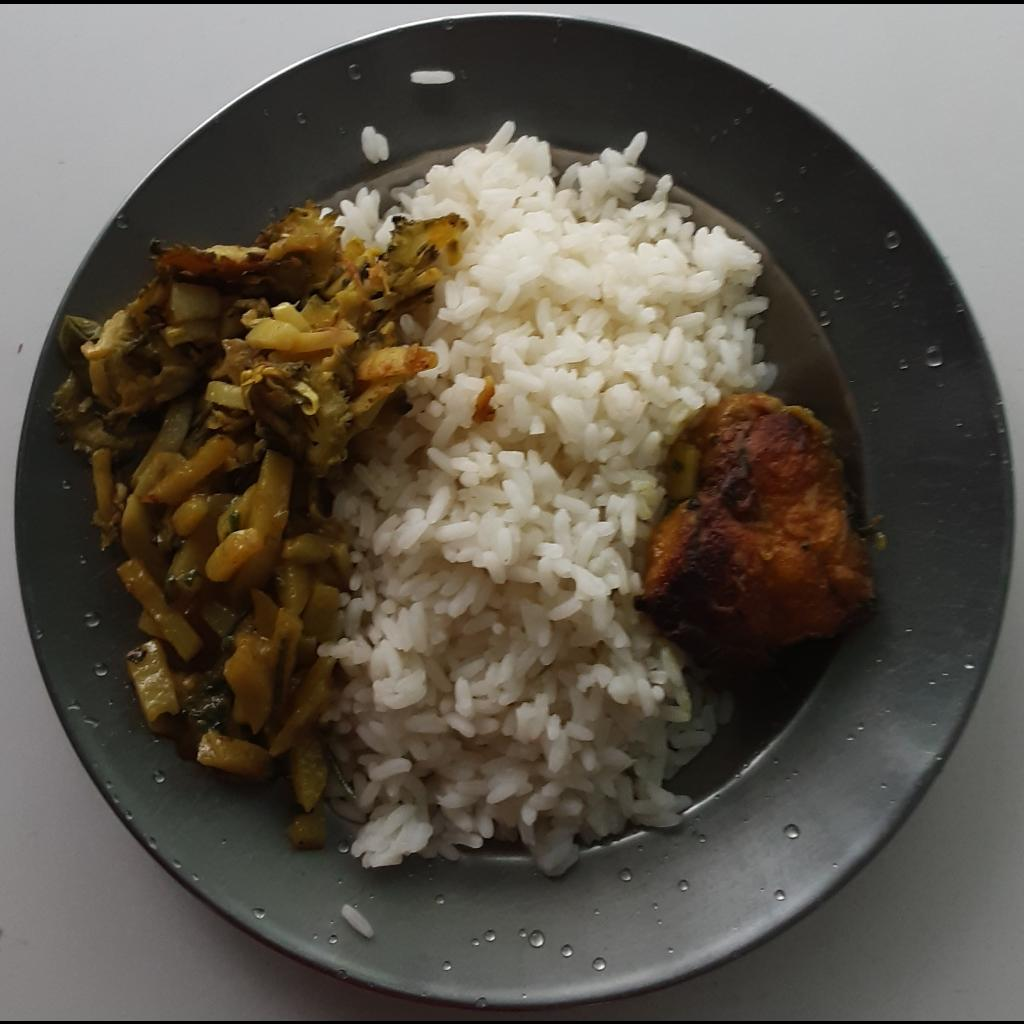fish: (642, 391, 877, 650)
korola-vaji: (50, 183, 465, 483)
potato: (90, 408, 353, 848)
rice: (316, 115, 777, 878)
